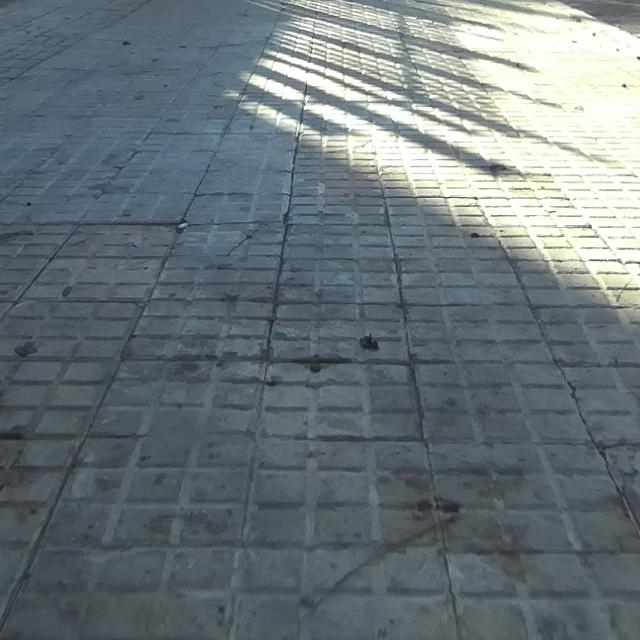calcada_quebrada: (222, 225, 263, 256)
